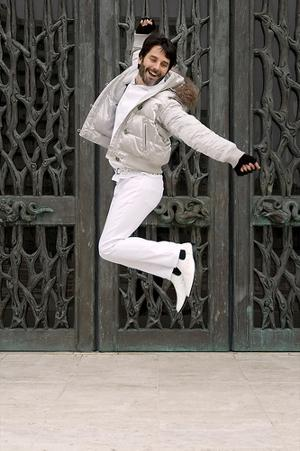person: (82, 17, 260, 316)
